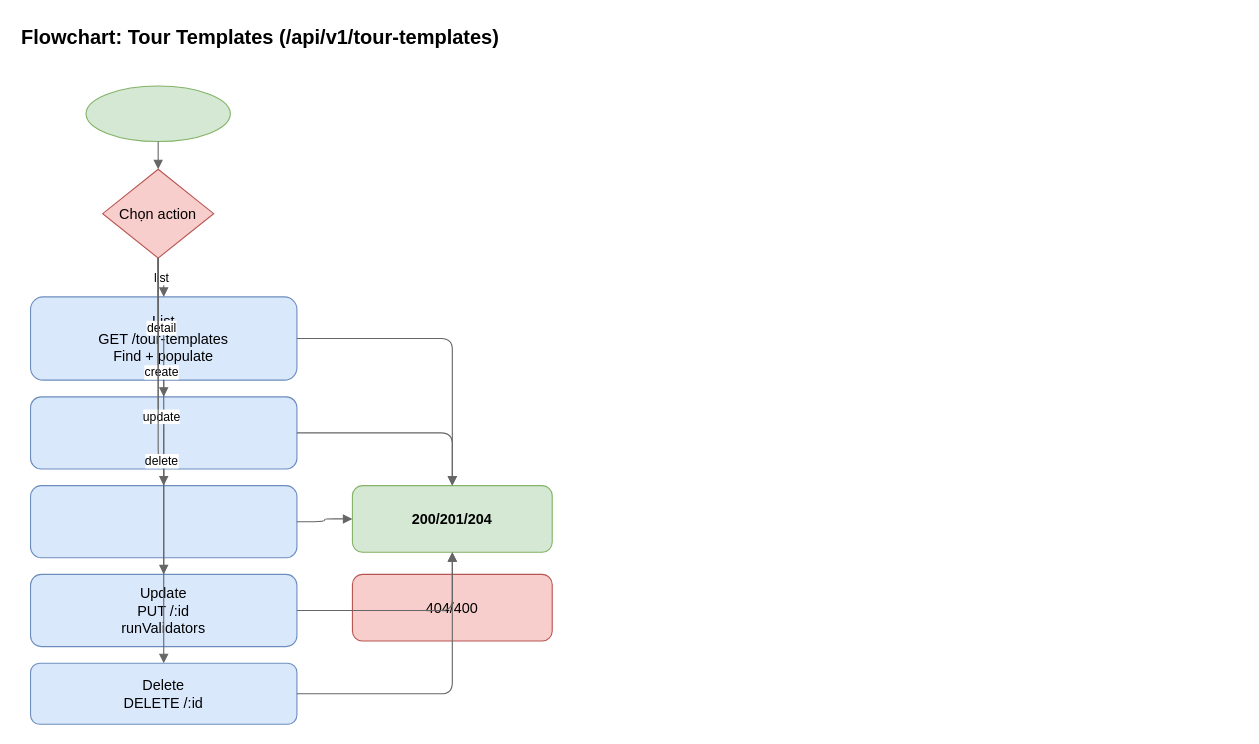
The diagram is 1259 pixels wide and 744 high, and some of its shapes have lost their labels. The box of each missing label's shape, as (x1, y1, x2, y2) in pixels:
Bắt đầu: (85, 85, 230, 142)
Create POST / Create(req.body): (29, 485, 297, 558)
Detail GET /:id FindById: (29, 396, 297, 469)
